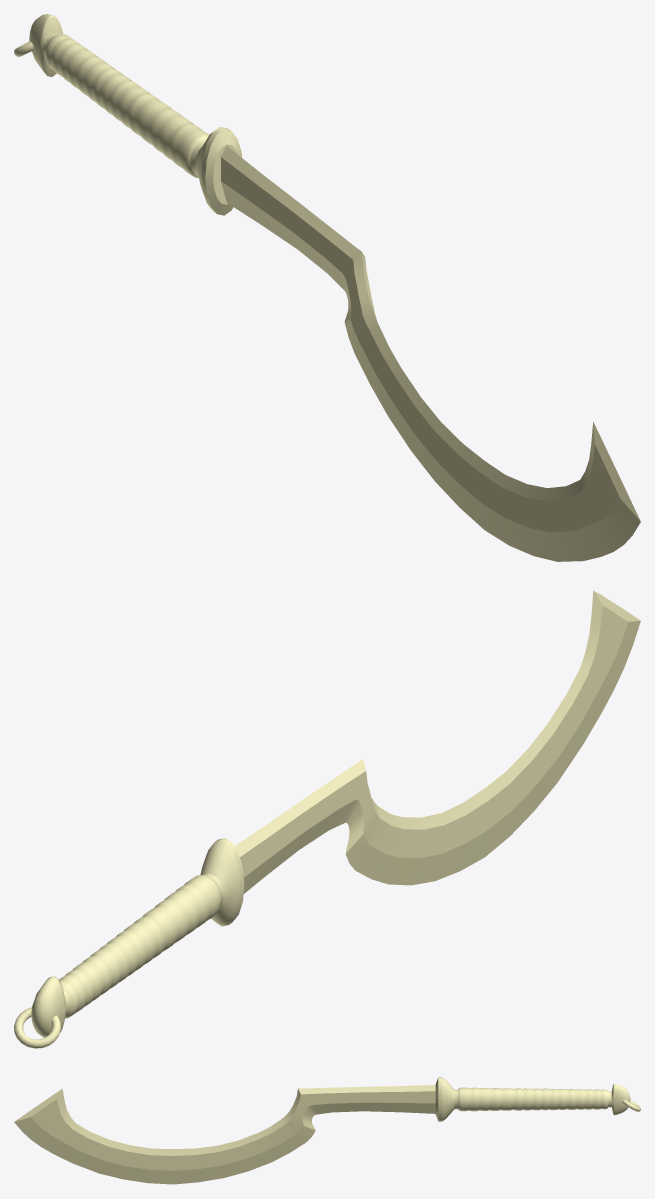
The model's file is sword2.fbx.
3 views of the same model, one above another, from view 1: azimuth 30°, elevation 25°; view 2: azimuth 150°, elevation 25°; view 3: azimuth 270°, elevation 25° (orthographic). The views are drawn at different scales.
Visible parts, largest first — view 1: Sword2; view 2: Sword2; view 3: Sword2.
Boxes of the visible parts, bbox=[...] form: Sword2: bbox=[14, 14, 640, 561]; Sword2: bbox=[14, 590, 640, 1048]; Sword2: bbox=[14, 1077, 640, 1184].
Size of the model in its own units: 5.48 by 27.27 by 145.
